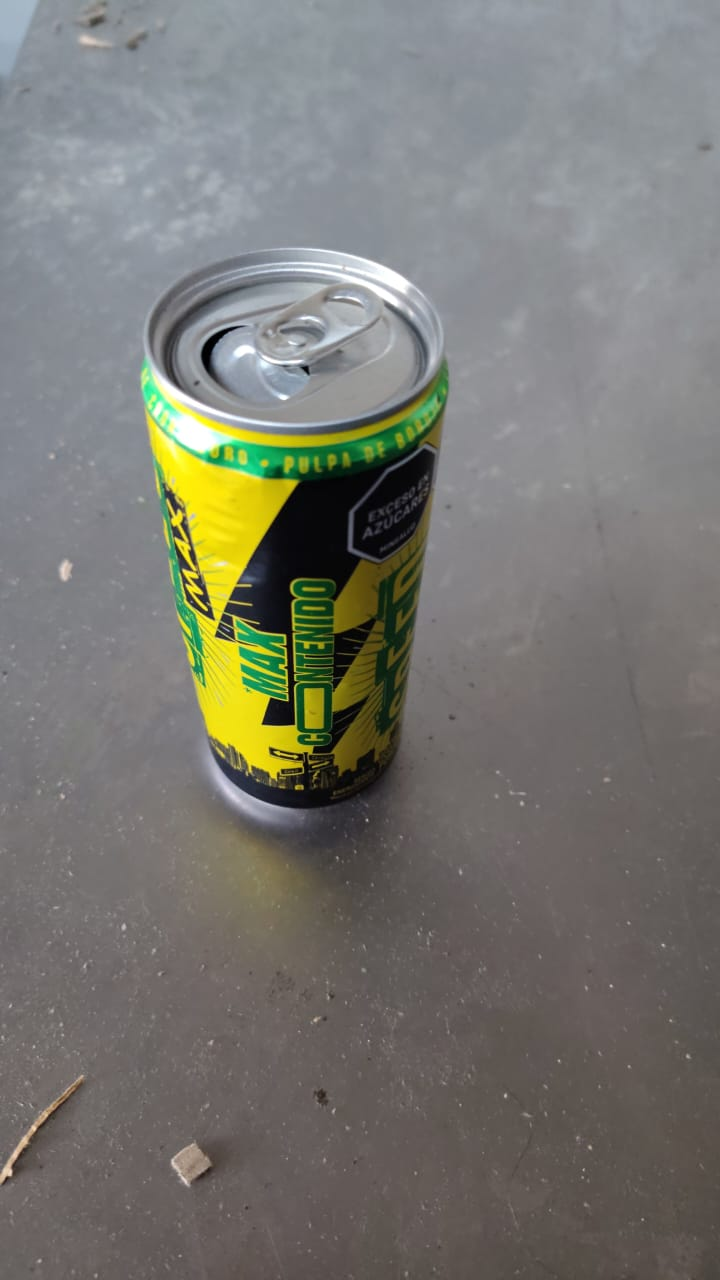Metal: (136, 246, 450, 812)
